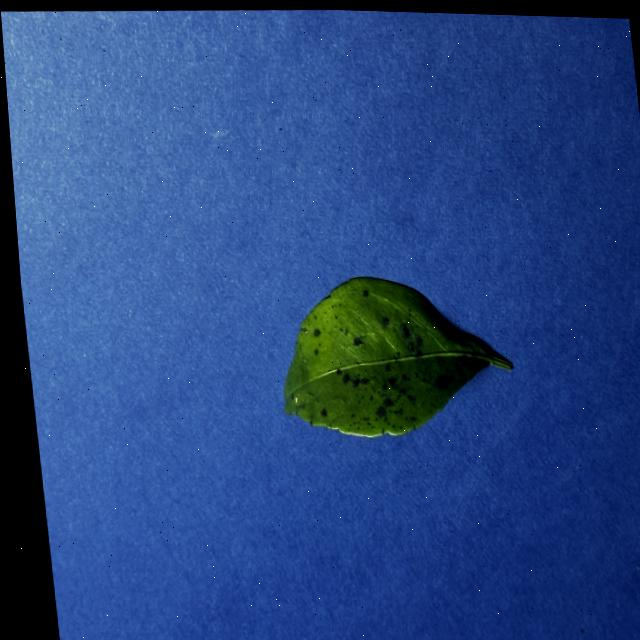sooty_mold: (283, 277, 511, 436)
